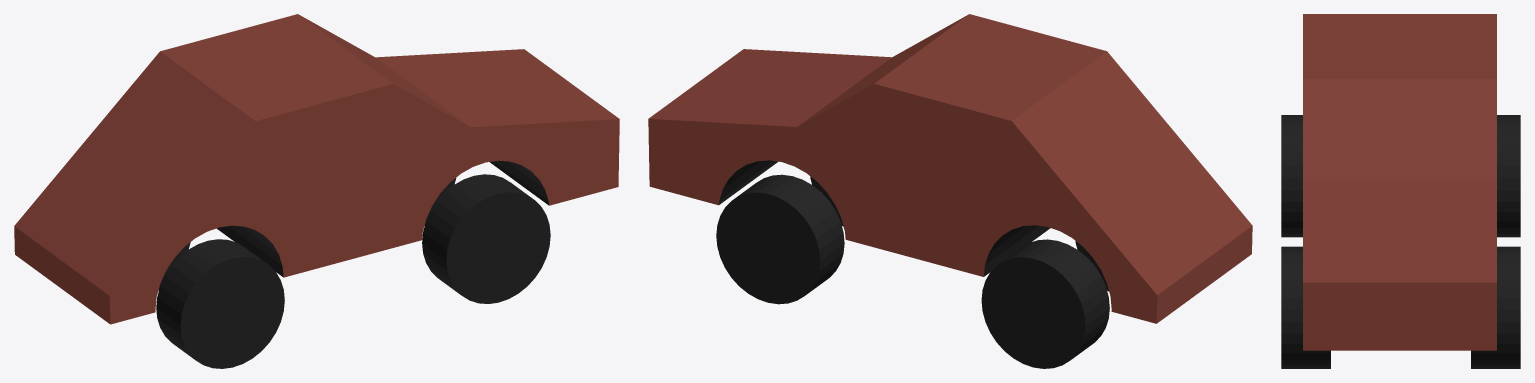
File: car-in-desert.gltf
3 renders of one model, left to right at view 1: azimuth 30°, elevation 25°; view 2: azimuth 150°, elevation 25°; view 3: azimuth 270°, elevation 25°, orthographic.
Parts seen in each view (by area): view 1: CAR; view 2: CAR; view 3: CAR.
Boxes of the visible parts, x1,y1,x2,y2 form: CAR: (14, 14, 619, 368); CAR: (648, 14, 1252, 368); CAR: (1281, 14, 1520, 368).
Bounding box in the file's own units: 7.4 × 3.24 × 2.96.
